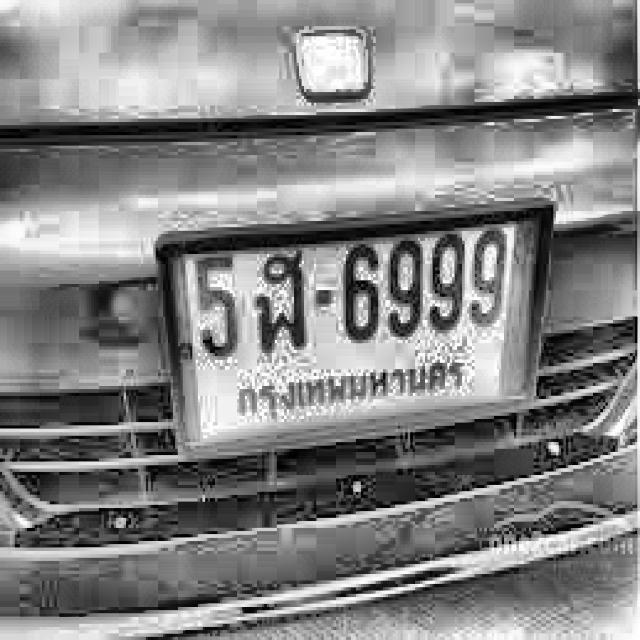license-plate: (151, 188, 581, 475)
